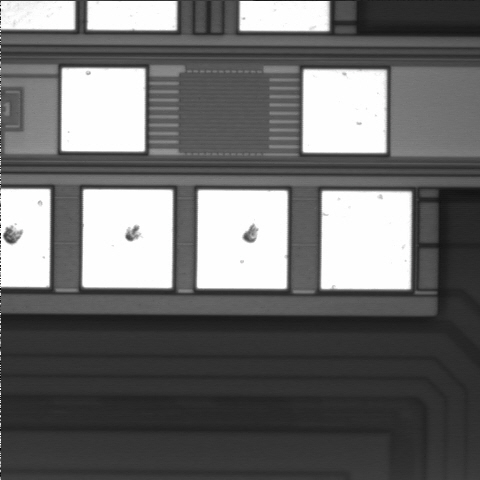pad: (82, 189, 173, 288), (197, 190, 288, 289), (321, 191, 411, 289), (61, 68, 145, 152), (303, 70, 386, 153)
